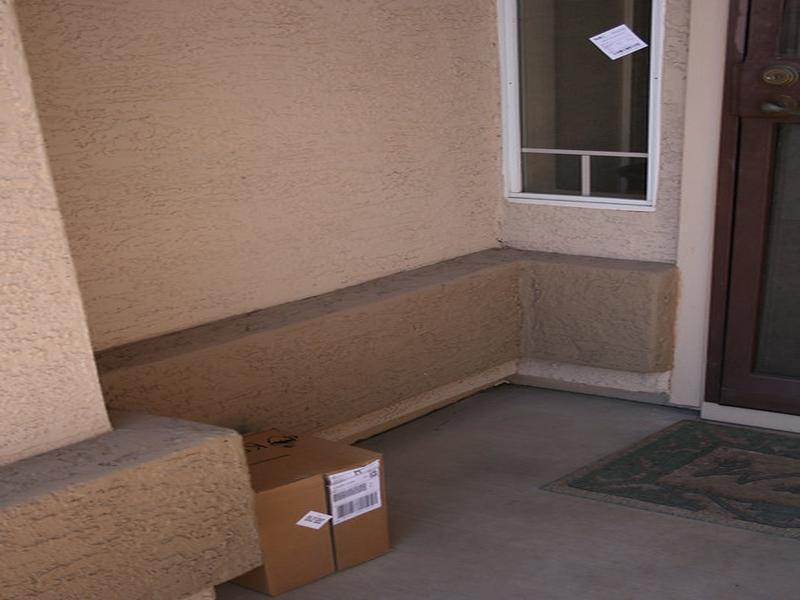package: (222, 420, 399, 589)
